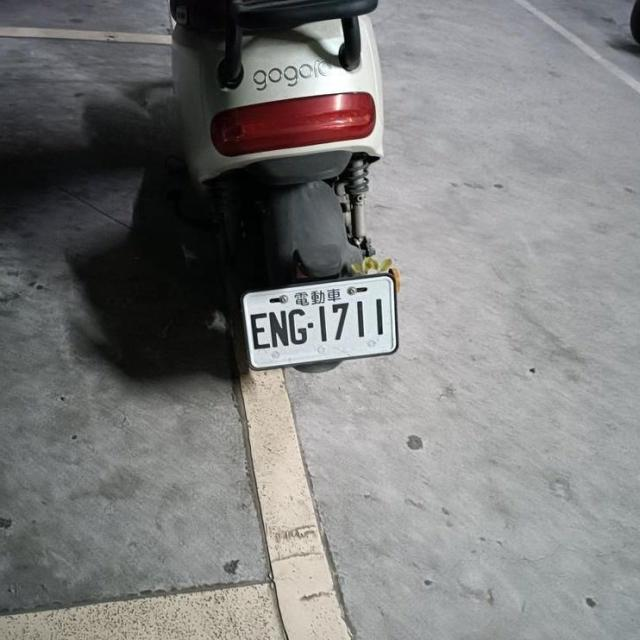W: (237, 270, 406, 372)
